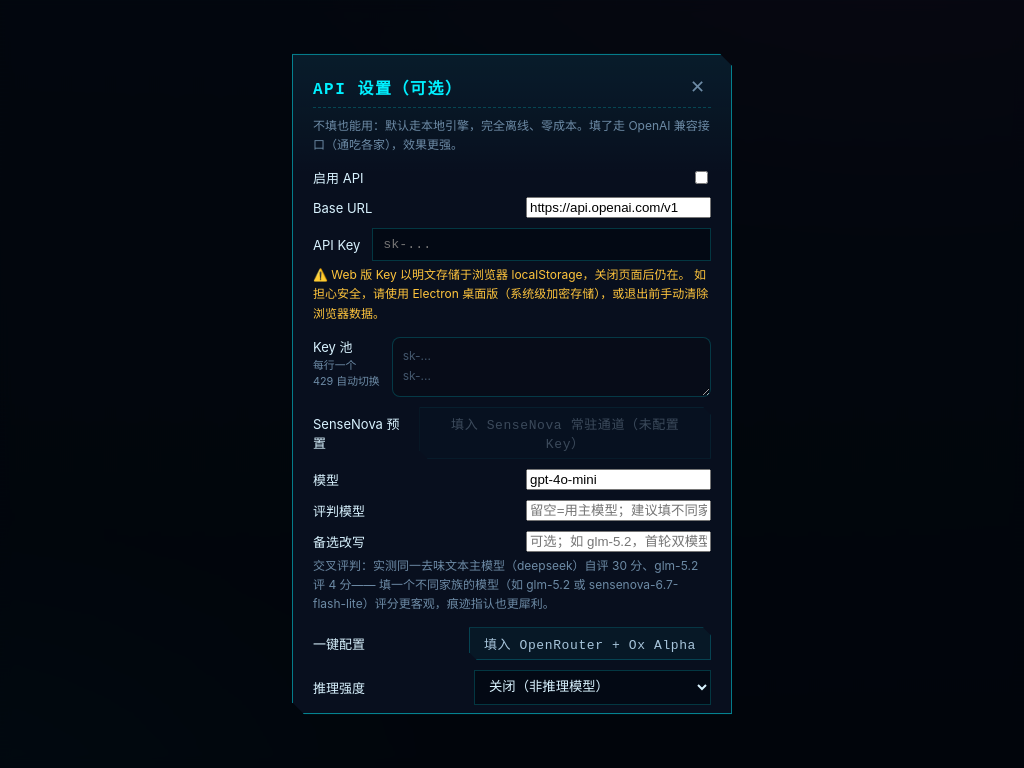
SettingsModal 条件分支（v0.9.16 补盲追加） › baseUrl 以 / 开头显示部署警告横幅，改回 https 消失
In the field with placeholder "https://api.openai.com/v1": point(618, 208) [526,197,711,218], type "/sensenova/v1"
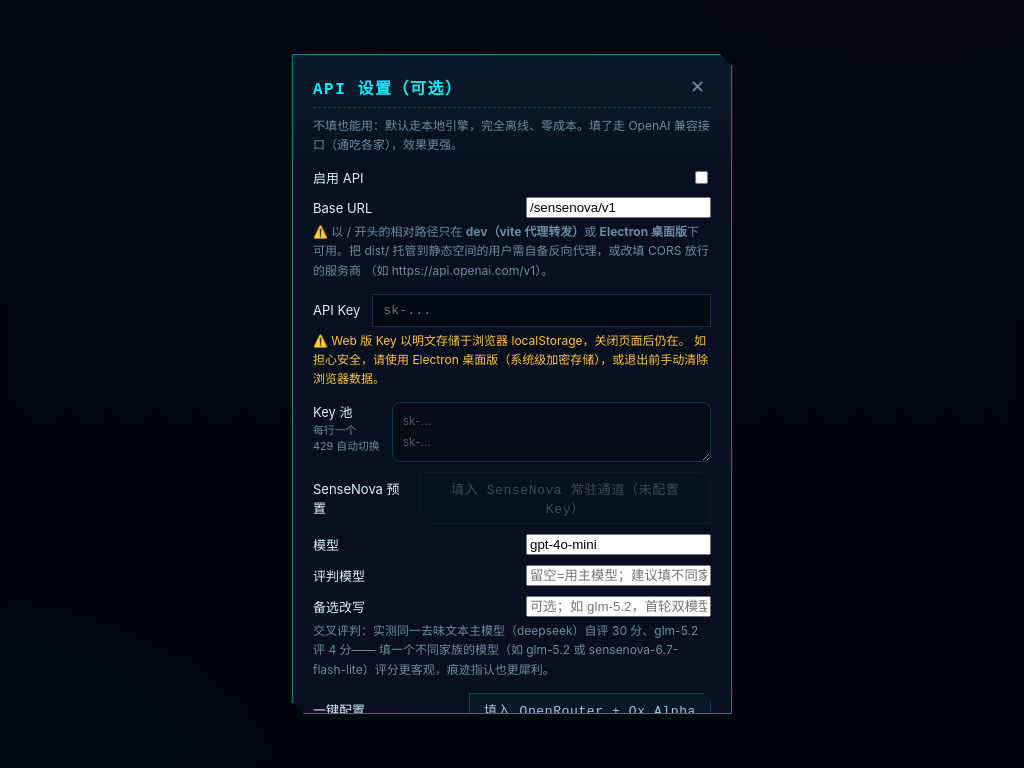
expect the text "以 / 开头的相对路径只在" is shown: met, box [313,224,466,239]
Replace the text in the field with placeholder "https://api.openai.com/v1" with "https://api.openai.com/v1": point(618, 208) [526,197,711,218]
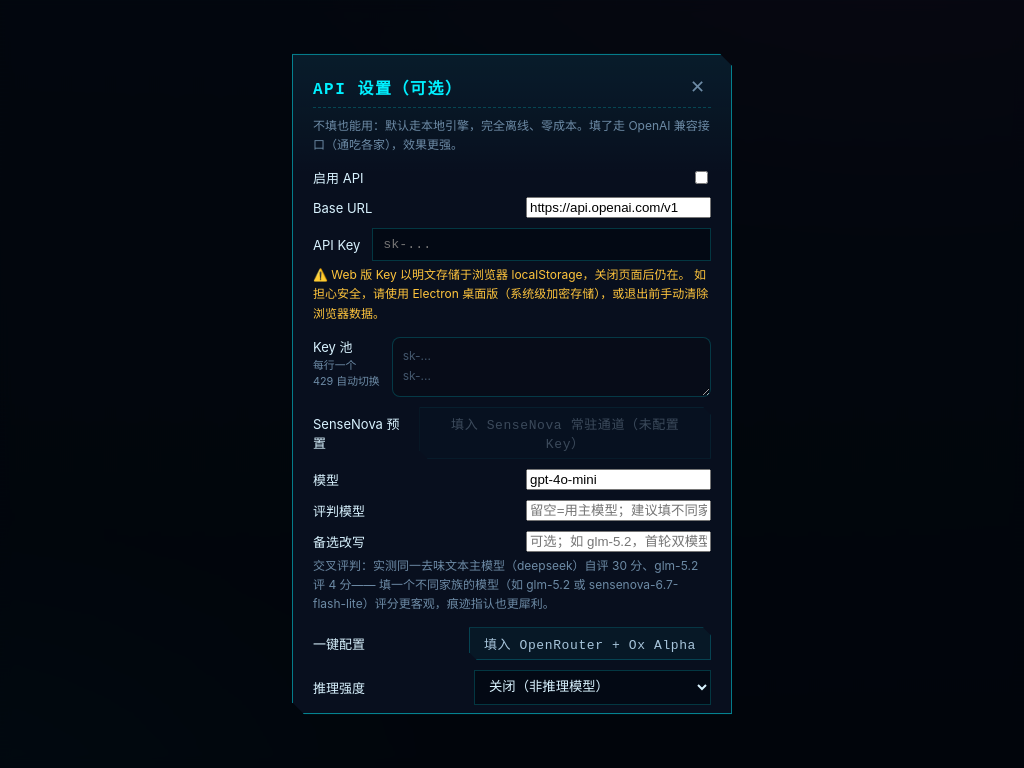
expect the text "以 / 开头的相对路径只在" is gone: met
